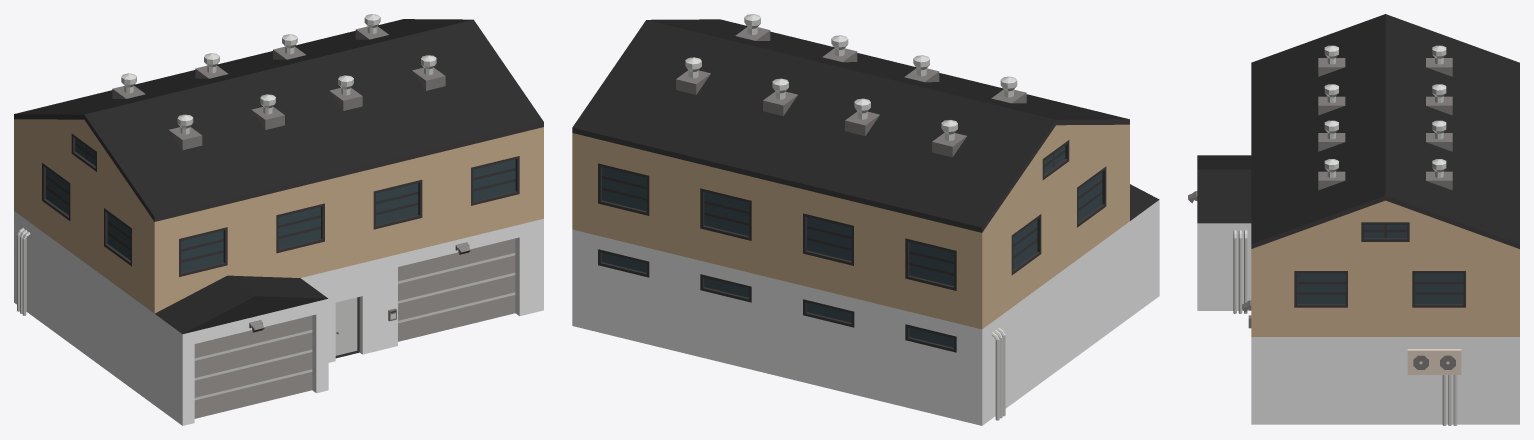
Rendered from buildings_industry-building.fbx.
3 renders of one model, left to right at view 1: azimuth 30°, elevation 25°; view 2: azimuth 150°, elevation 25°; view 3: azimuth 270°, elevation 25°, orthographic. The views are drawn at different scales.
Visible parts, largest first — view 1: buildings_industry_building; view 2: buildings_industry_building; view 3: buildings_industry_building.
Part boxes in pixels (bbox=[...]): buildings_industry_building: bbox=[14, 14, 543, 425]; buildings_industry_building: bbox=[572, 14, 1159, 425]; buildings_industry_building: bbox=[1188, 14, 1519, 425].
Size of the model in its own units: 200 by 116 by 151.
